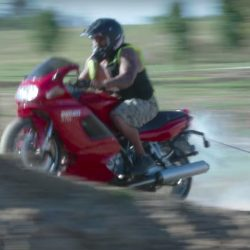helmet: (81, 13, 125, 62)
